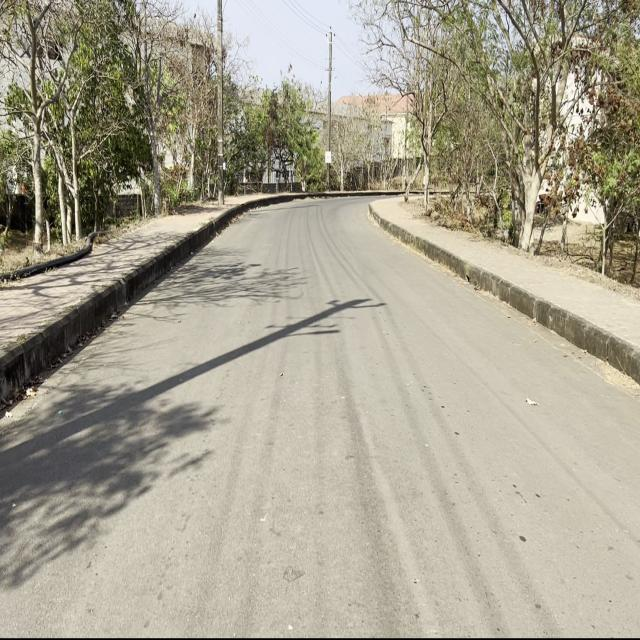Road: (3, 196, 638, 633)
